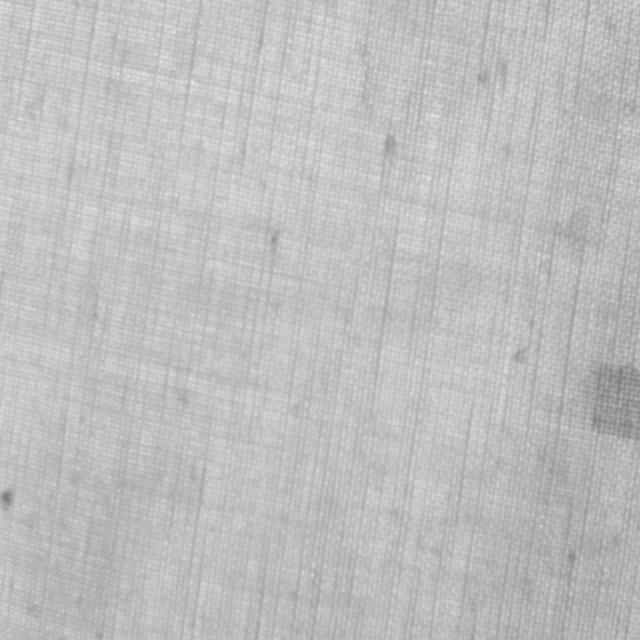oil spot: (587, 358, 639, 444)
